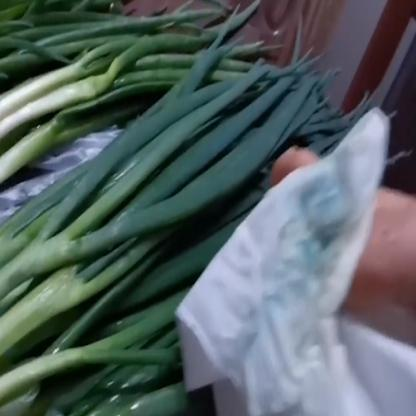green onion: (2, 44, 314, 355), (2, 0, 270, 179)
